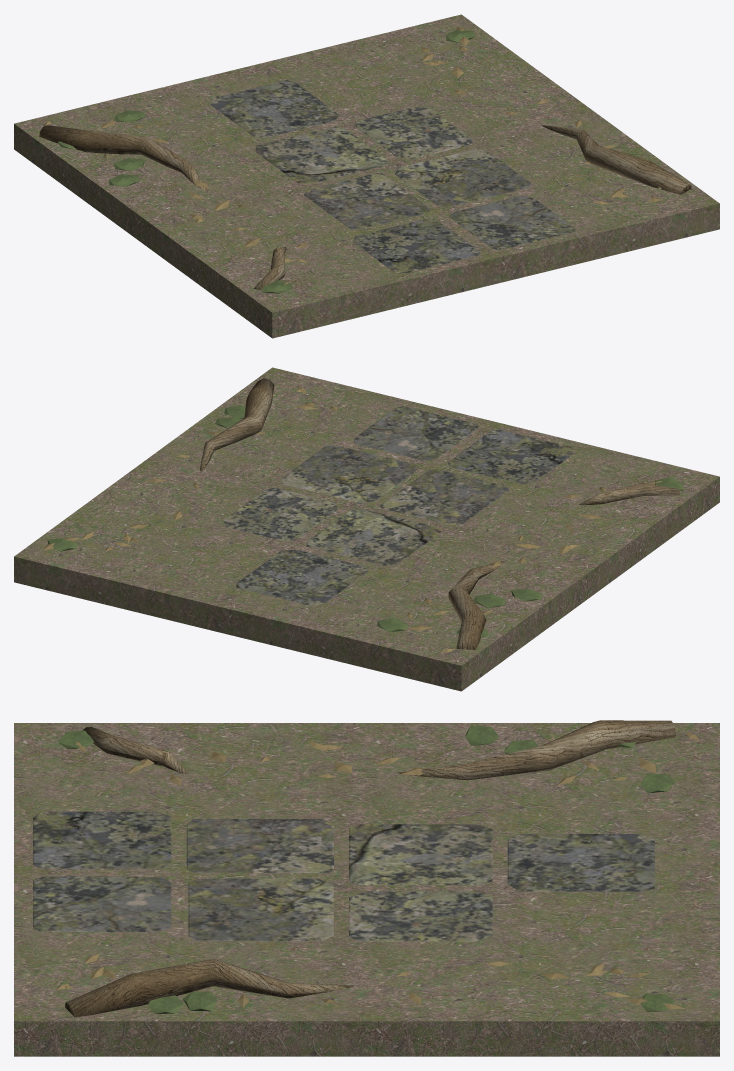
File: mod_root_soil_floor_4m.glb
3 renders of one model, top to bottom at view 1: azimuth 30°, elevation 25°; view 2: azimuth 150°, elevation 25°; view 3: azimuth 270°, elevation 25°, orthographic. The views are drawn at different scales.
Visible parts, largest first — view 1: sacred_damp_forest_soil_surface, sacred_weathered_stone_surface, sacred_root_bark_surface, sacred_old_leaf_litter_surface, sacred_velvet_moss_surface; view 2: sacred_damp_forest_soil_surface, sacred_weathered_stone_surface, sacred_root_bark_surface, sacred_velvet_moss_surface, sacred_old_leaf_litter_surface; view 3: sacred_damp_forest_soil_surface, sacred_weathered_stone_surface, sacred_root_bark_surface, sacred_velvet_moss_surface, sacred_old_leaf_litter_surface.
Part boxes in pixels (x1=…): sacred_damp_forest_soil_surface: x1=14, y1=14, x2=719, y2=338; sacred_weathered_stone_surface: x1=210, y1=80, x2=575, y2=272; sacred_root_bark_surface: x1=39, y1=125, x2=691, y2=290; sacred_old_leaf_litter_surface: x1=44, y1=26, x2=663, y2=284; sacred_velvet_moss_surface: x1=58, y1=30, x2=655, y2=293; sacred_damp_forest_soil_surface: x1=14, y1=367, x2=719, y2=691; sacred_weathered_stone_surface: x1=223, y1=406, x2=576, y2=605; sacred_root_bark_surface: x1=200, y1=378, x2=680, y2=649; sacred_velvet_moss_surface: x1=47, y1=405, x2=684, y2=636; sacred_old_leaf_litter_surface: x1=43, y1=386, x2=662, y2=652; sacred_damp_forest_soil_surface: x1=14, y1=723, x2=719, y2=1056; sacred_weathered_stone_surface: x1=33, y1=811, x2=654, y2=941; sacred_root_bark_surface: x1=65, y1=720, x2=675, y2=1016; sacred_velvet_moss_surface: x1=57, y1=725, x2=675, y2=1013; sacred_old_leaf_litter_surface: x1=56, y1=731, x2=700, y2=1008.
Bounding box in the file's own units: 4 × 0.3789 × 4.
5 materials, 5 textured.
